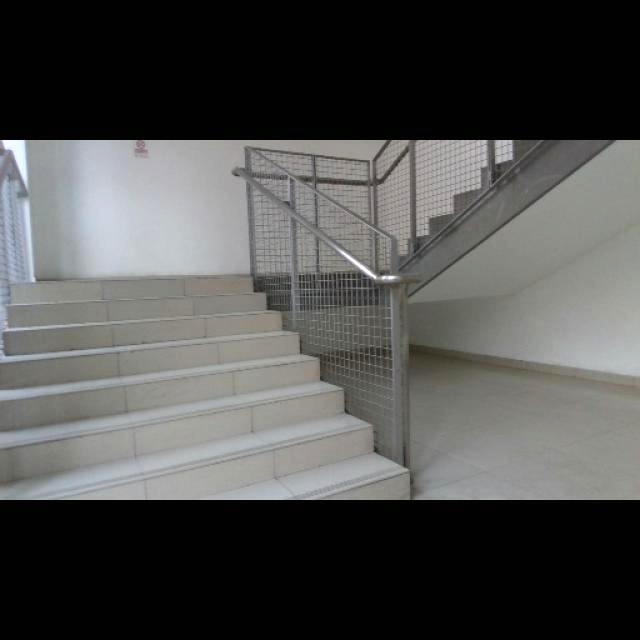stair: (9, 293, 393, 499)
